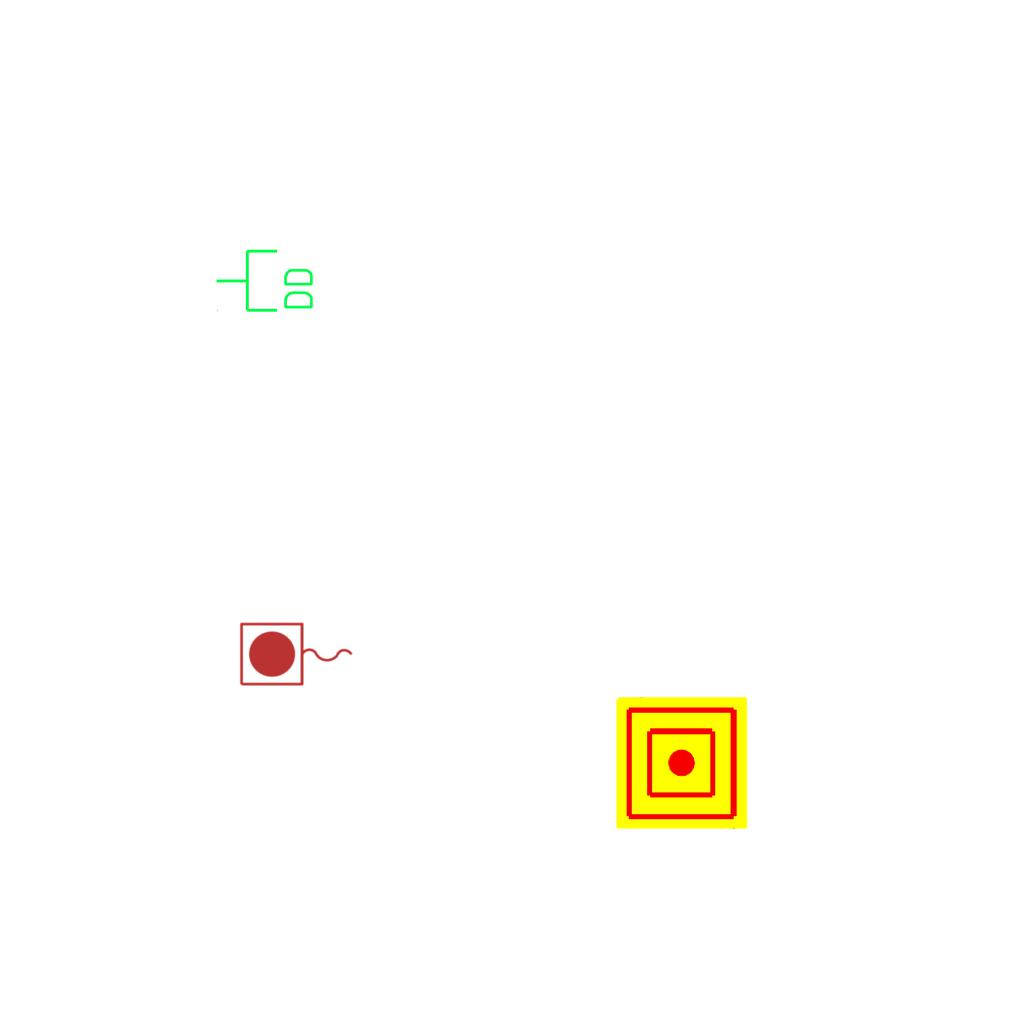Datenanschluss_zweifach: (214, 247, 317, 316)
NAM-Nichtautomatischer_Melder: (616, 697, 748, 829)
Zugtaster: (236, 619, 358, 691)
